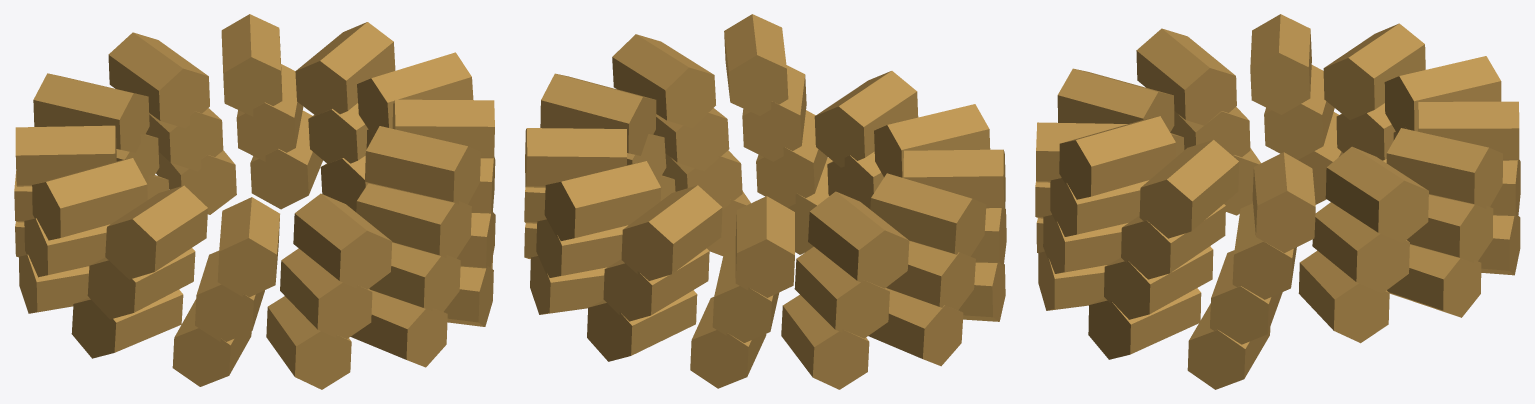
File: soga.glb
3 views of the same model, side by side, from view 1: azimuth 30°, elevation 25°; view 2: azimuth 150°, elevation 25°; view 3: azimuth 270°, elevation 25° (orthographic).
Parts seen in each view (by area): view 1: rope; view 2: rope; view 3: rope.
Boxes of the visible parts, x1,y1,x2,y2 form: rope: (14,14,495,389); rope: (524,14,1006,389); rope: (1035,14,1520,389).
Size of the model in its own units: 0.1728 by 0.0818 by 0.1723.
